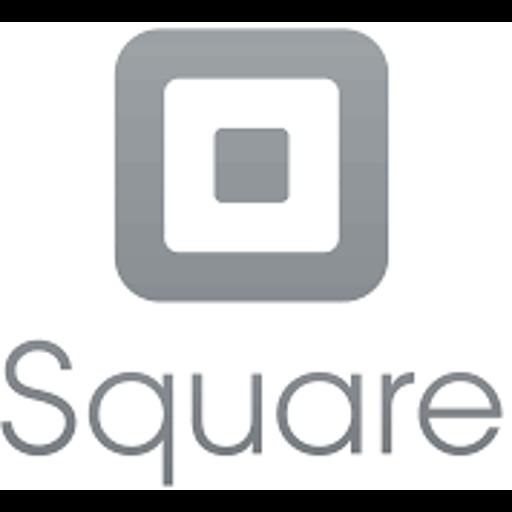Square: (0, 22, 512, 490)
